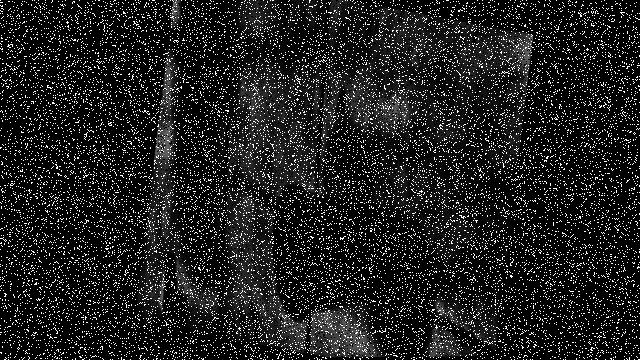pot: (272, 193, 388, 309)
